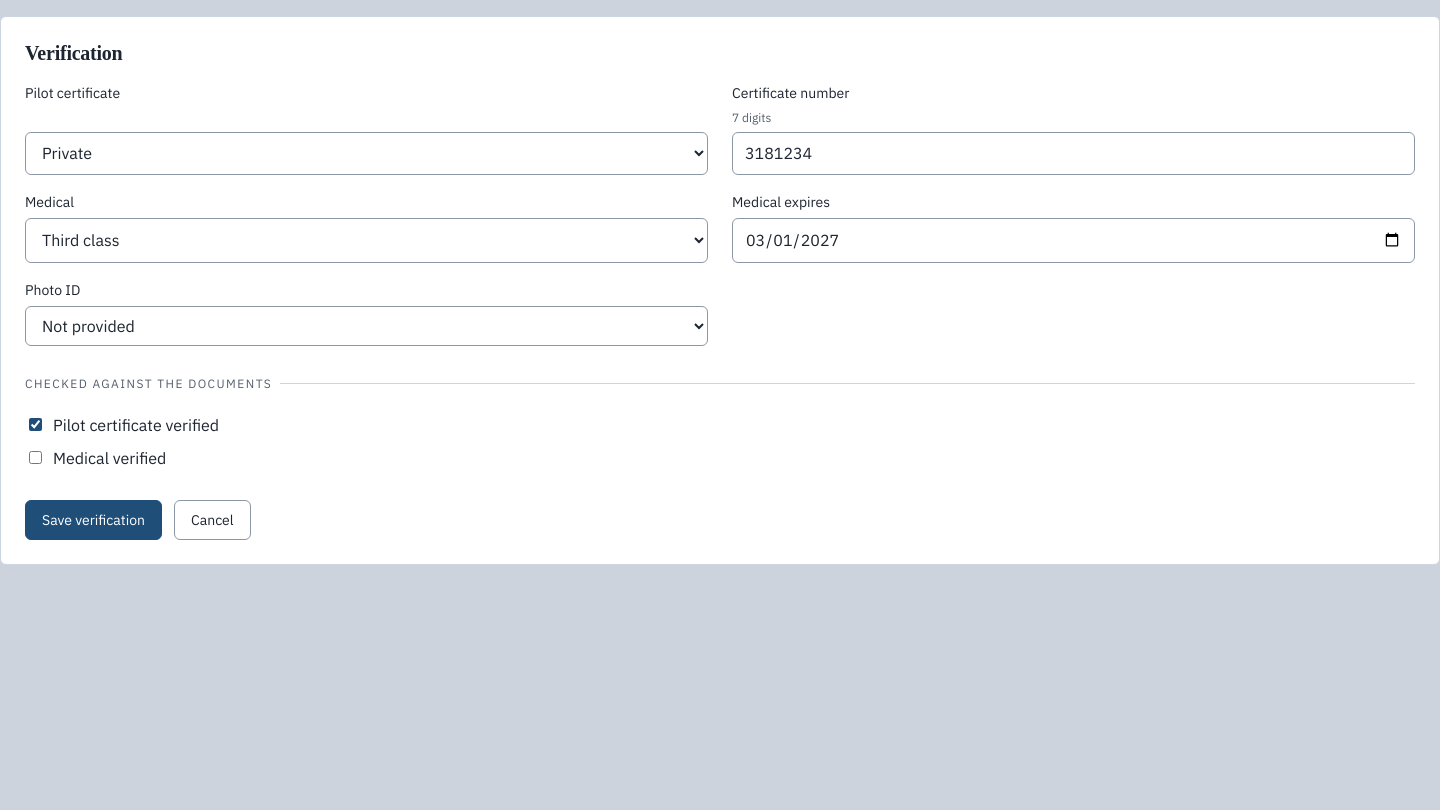
it: MemberVerificationPanel › shows a refused field under that field
Replace the text in the field labelled "Certificate number" with "12345": (1074, 153) [732,132,1415,175]
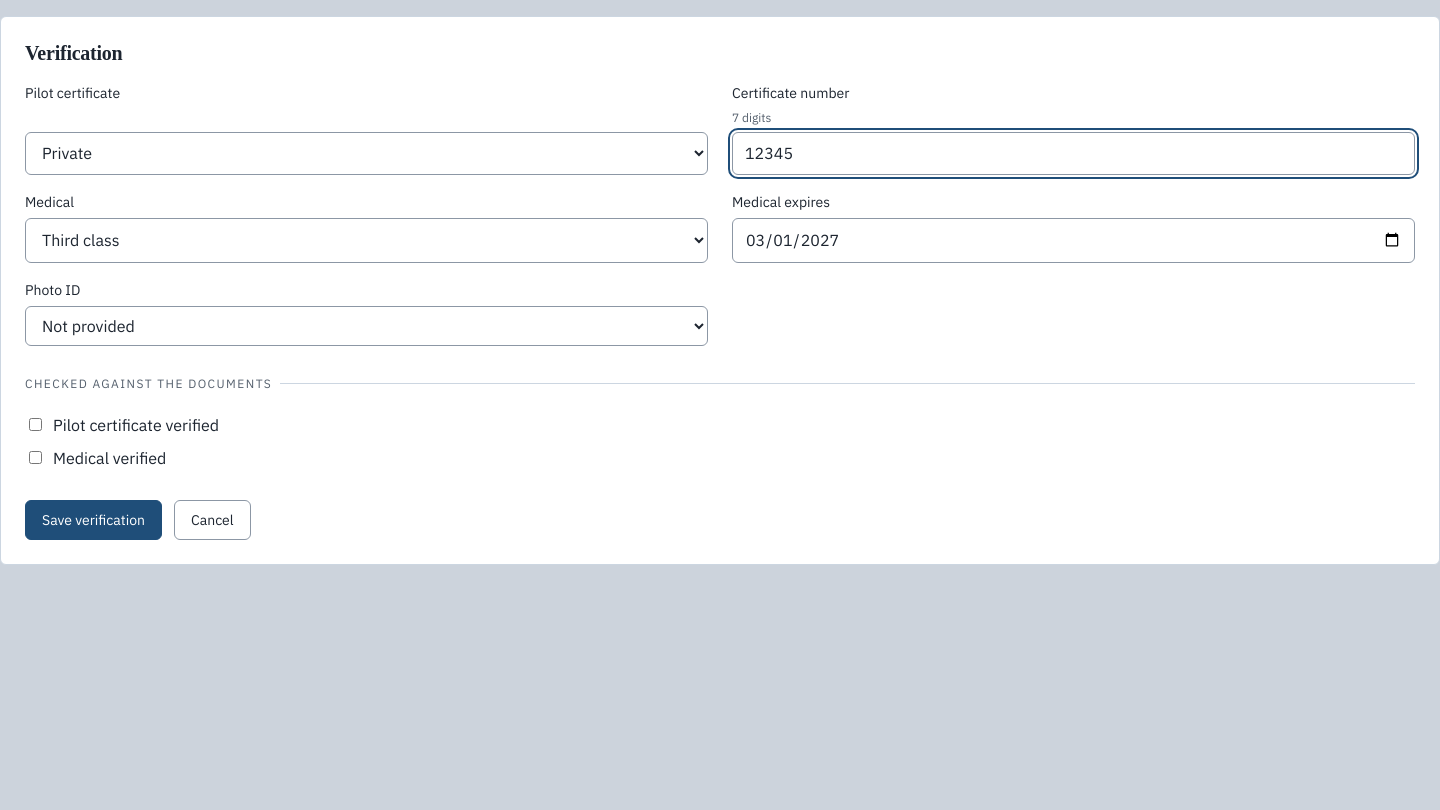
Click the button "Save verification": (94, 520) [25,500,162,540]
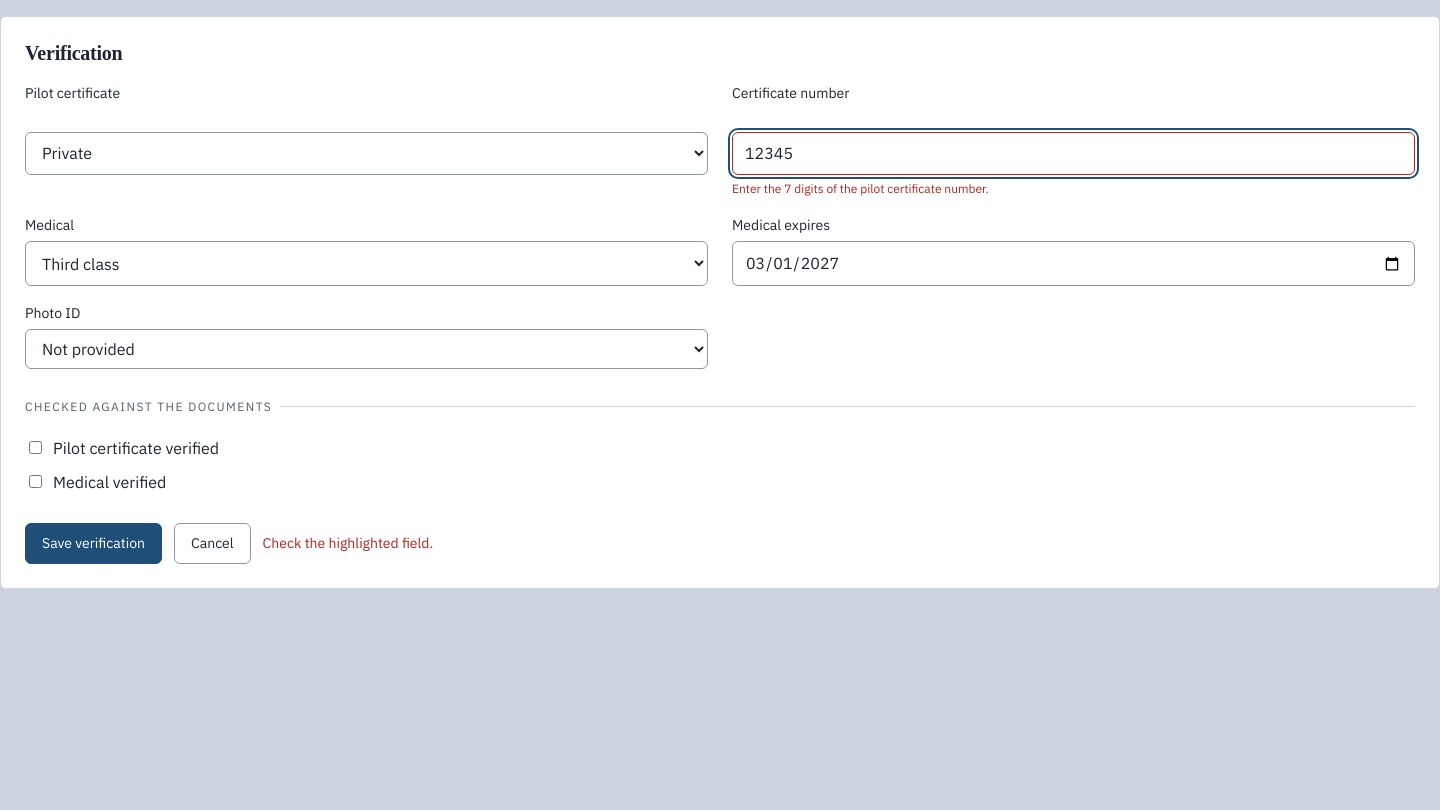
Result: the message "Enter the 7 digits of the pilot certificate number." is shown at [732,181,989,196]
